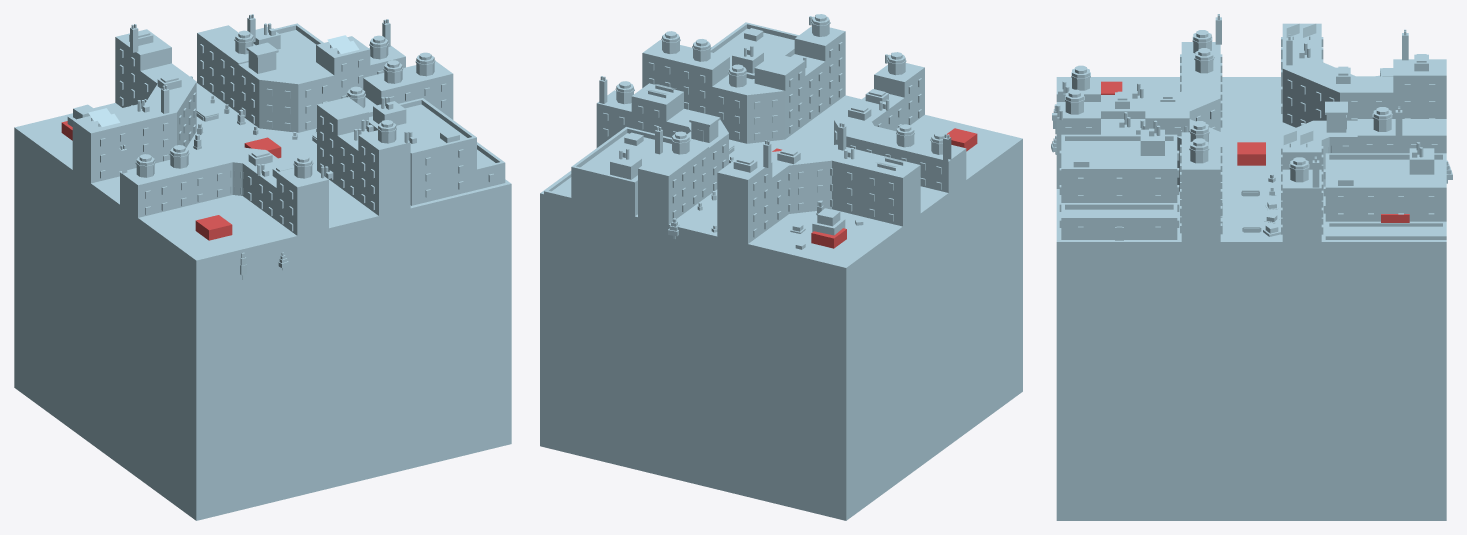
Rendered from block_19_sewersystem_100.glb.
3 renders of one model, left to right at view 1: azimuth 30°, elevation 25°; view 2: azimuth 150°, elevation 25°; view 3: azimuth 270°, elevation 25°, orthographic. The views are drawn at different scales.
Parts seen in each view (by area): view 1: Patch_MidRight_b19_SL, Cerda_MidRight_b19_SL, Insets_MidRight_b19_SL, CerdaRoofProps_MidRight_b19_SL, Green_MidRight_b19_SL, SL_Net_19; view 2: Patch_MidRight_b19_SL, Cerda_MidRight_b19_SL, Insets_MidRight_b19_SL, CerdaRoofProps_MidRight_b19_SL, SL_Net_19, Green_MidRight_b19_SL, Asset_Tree_Round.065_SL; view 3: Patch_MidRight_b19_SL, Cerda_MidRight_b19_SL, Insets_MidRight_b19_SL, CerdaRoofProps_MidRight_b19_SL, SL_Net_19.
Boxes of the visible parts, x1,y1,x2,y2 form: Patch_MidRight_b19_SL: (14,83,511,520); Cerda_MidRight_b19_SL: (72,25,453,270); Insets_MidRight_b19_SL: (253,23,505,205); CerdaRoofProps_MidRight_b19_SL: (88,14,435,178); Green_MidRight_b19_SL: (14,142,312,312); SL_Net_19: (61,121,281,240); Patch_MidRight_b19_SL: (540,95,1022,520); Cerda_MidRight_b19_SL: (596,26,966,260); Insets_MidRight_b19_SL: (544,22,798,249); CerdaRoofProps_MidRight_b19_SL: (599,14,951,172); SL_Net_19: (772,128,977,248); Green_MidRight_b19_SL: (737,185,1022,284); Asset_Tree_Round.065_SL: (812,208,845,235); Patch_MidRight_b19_SL: (1056,77,1446,520); Cerda_MidRight_b19_SL: (1056,23,1446,260); Insets_MidRight_b19_SL: (1059,129,1446,240); CerdaRoofProps_MidRight_b19_SL: (1052,14,1428,187); SL_Net_19: (1101,81,1409,222).
Size of the model in its own units: 9.51 by 10.16 by 9.78.
